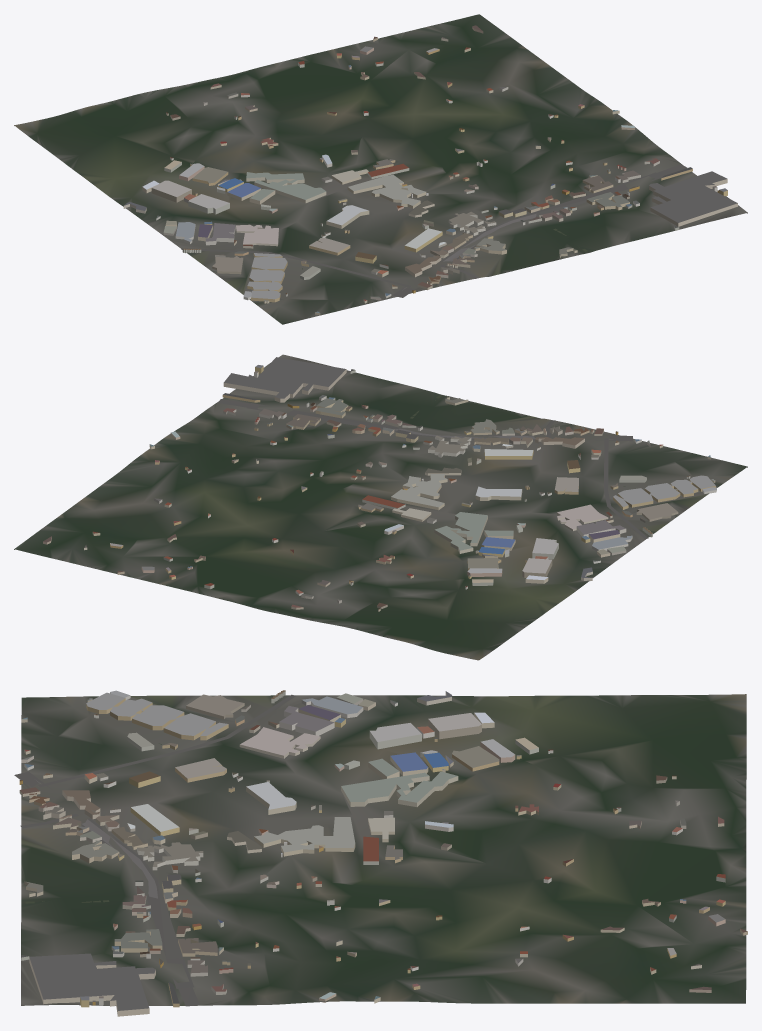
The picture shows the model from 3 angles, top to bottom: view 1: azimuth 30°, elevation 25°; view 2: azimuth 150°, elevation 25°; view 3: azimuth 270°, elevation 25°; orthographic projection. The views are drawn at different scales.
Visible parts, largest first — view 1: ground, buildings, roads; view 2: ground, buildings, roads; view 3: ground, buildings, roads.
Part boxes in pixels (x1,y1,x2,y2): ground: (14,14,747,324); buildings: (123,25,737,315); roads: (181,164,687,297); ground: (14,354,747,660); buildings: (43,357,716,611); roads: (217,399,648,538); ground: (21,694,746,1005); buildings: (19,690,747,1016); roads: (14,694,295,1006).
Bounding box in the file's own units: 1460 × 29.14 × 1419.
